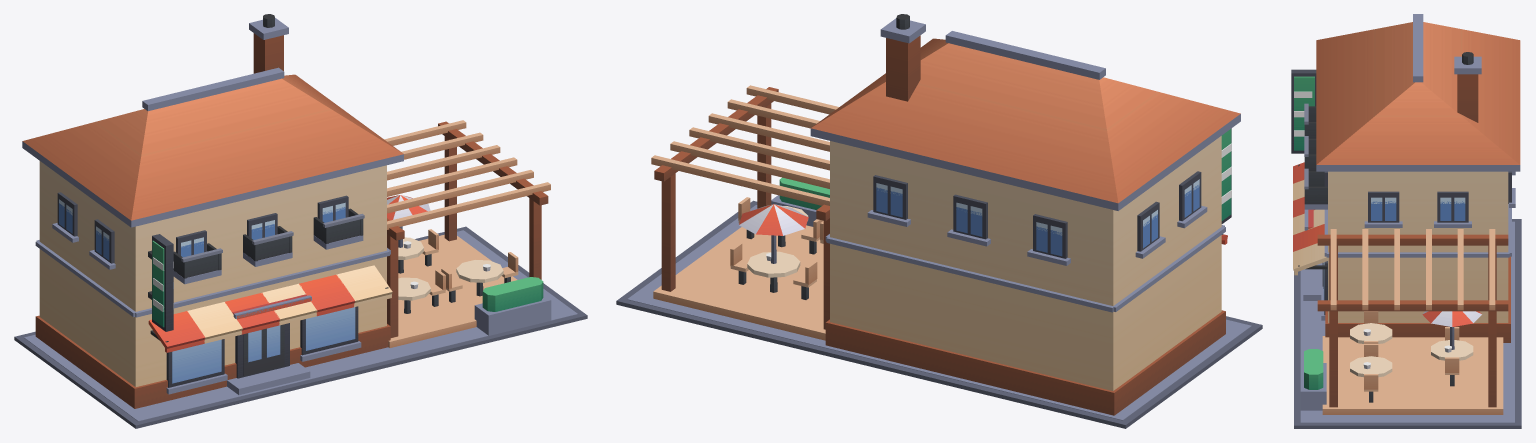
File: com_bistro_terrace_2x1.glb
The picture shows the model from 3 angles, left to right: view 1: azimuth 30°, elevation 25°; view 2: azimuth 150°, elevation 25°; view 3: azimuth 270°, elevation 25°; orthographic projection. The views are drawn at different scales.
Parts seen in each view (by area): view 1: com_bistro_terrace_2x1; view 2: com_bistro_terrace_2x1; view 3: com_bistro_terrace_2x1.
Boxes of the visible parts, left/top/right/bottom form: com_bistro_terrace_2x1: left=14, top=14, right=587, bottom=428; com_bistro_terrace_2x1: left=616, top=14, right=1262, bottom=428; com_bistro_terrace_2x1: left=1291, top=14, right=1521, bottom=428.
Size of the model in its own units: 3.74 by 2.29 by 1.76.
1 material, 1 textured.
